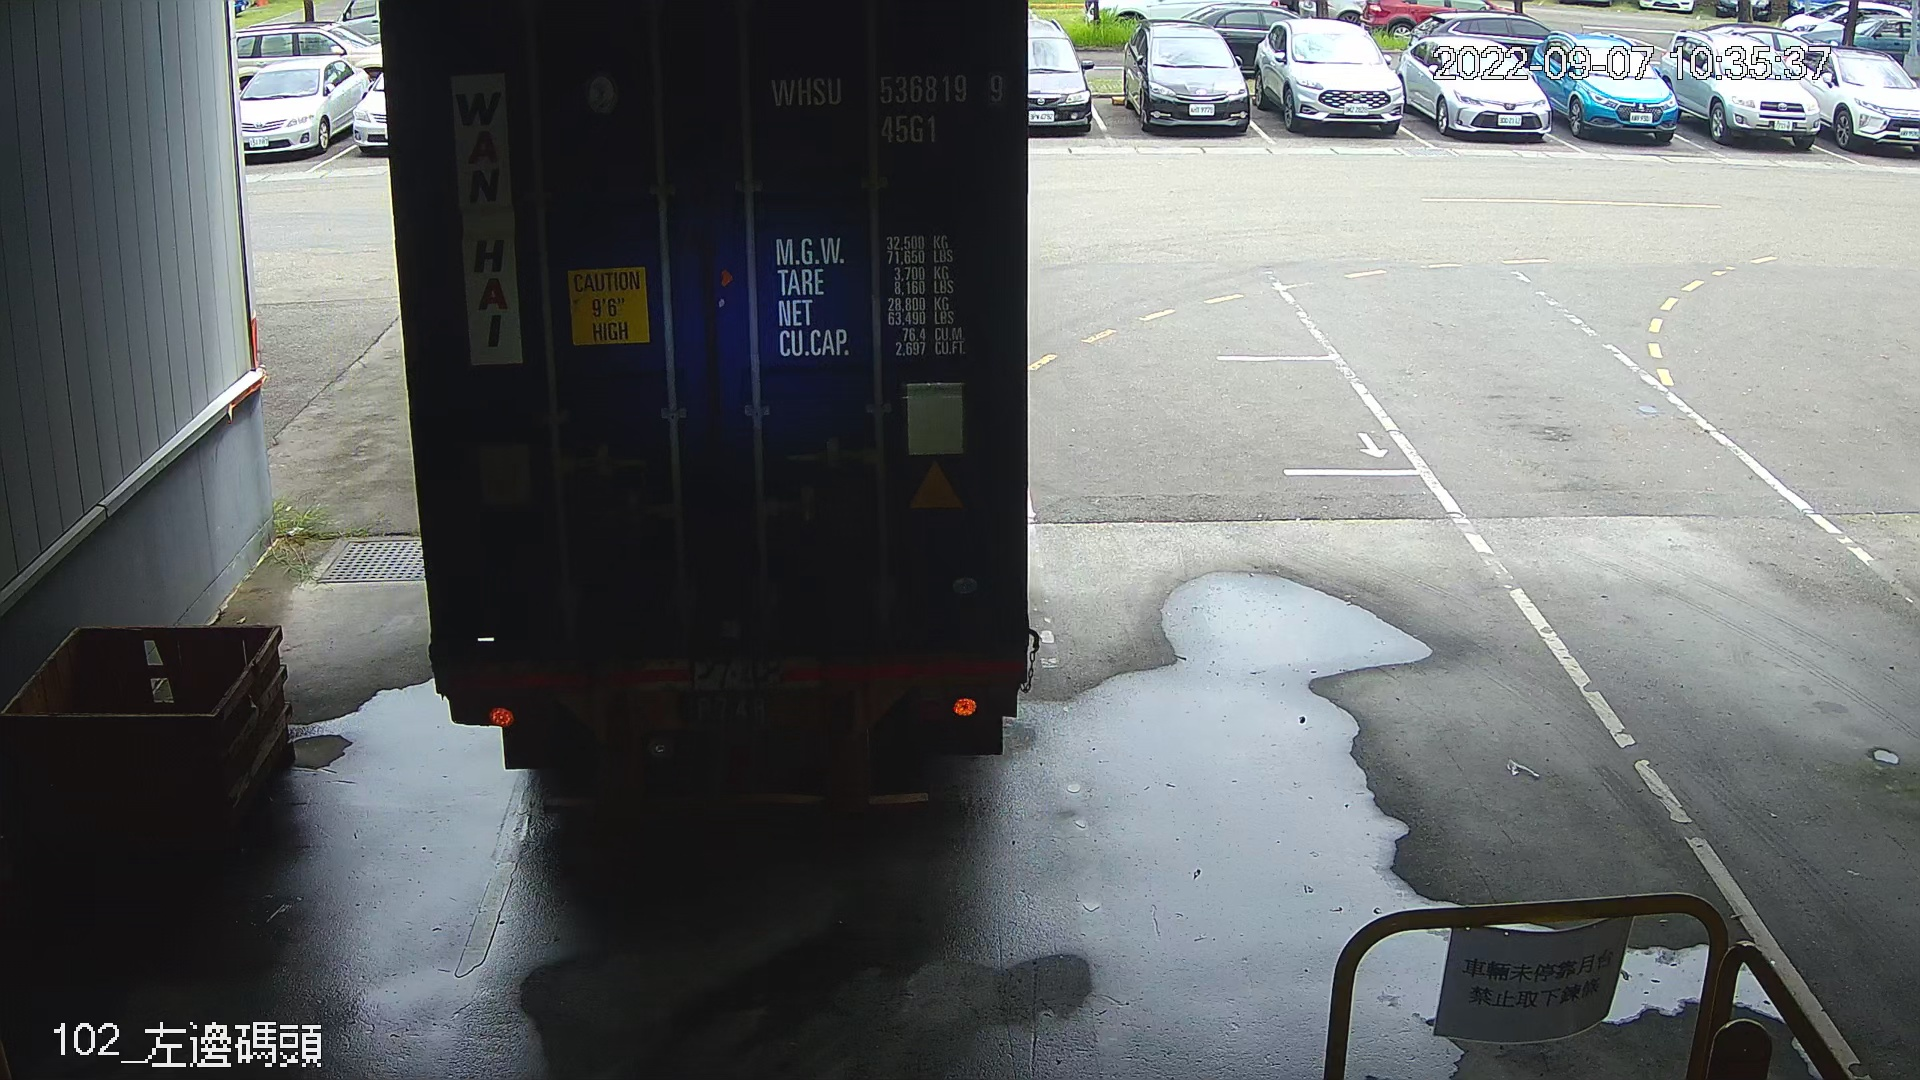container: (764, 63, 1013, 152)
